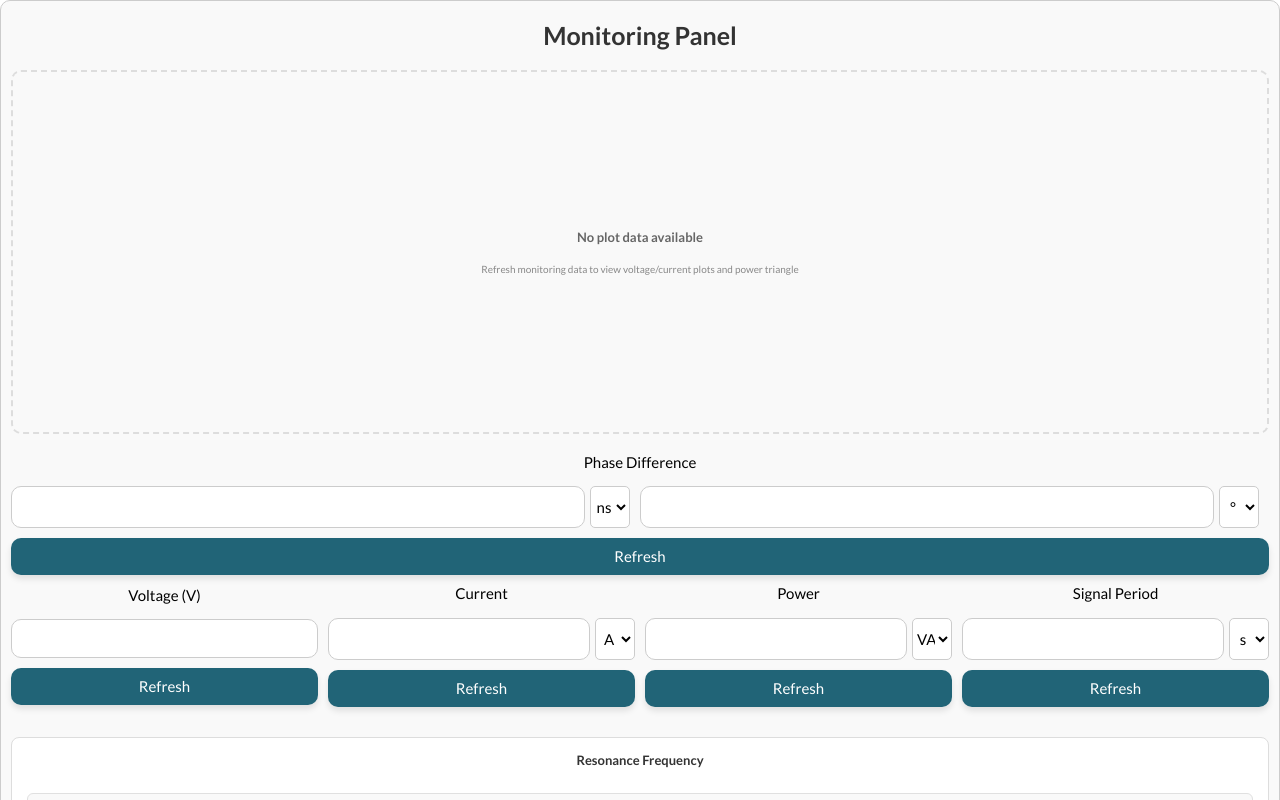
Test case: MonitoringPanel › fetches individual metrics when refresh buttons are clicked
Click the button "Refresh" below "Phase Difference" at (640, 557), box [11, 538, 1269, 575]
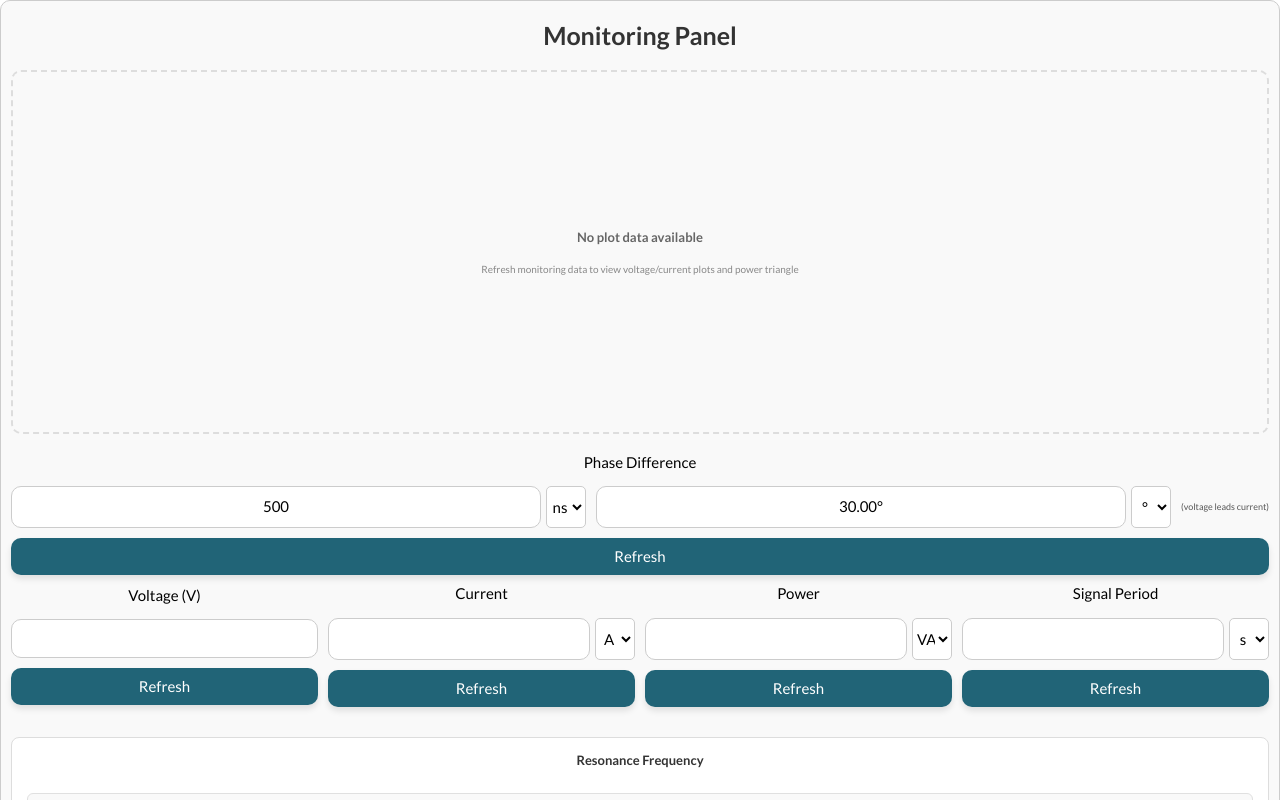
Expected: the 1st field showing "500" is shown, [11, 486, 541, 528]
Expected: the 2nd field showing "30.00°" is shown, [596, 486, 1126, 528]
Click the button "Refresh" below "Voltage (V)" at (164, 687), box [11, 668, 318, 705]
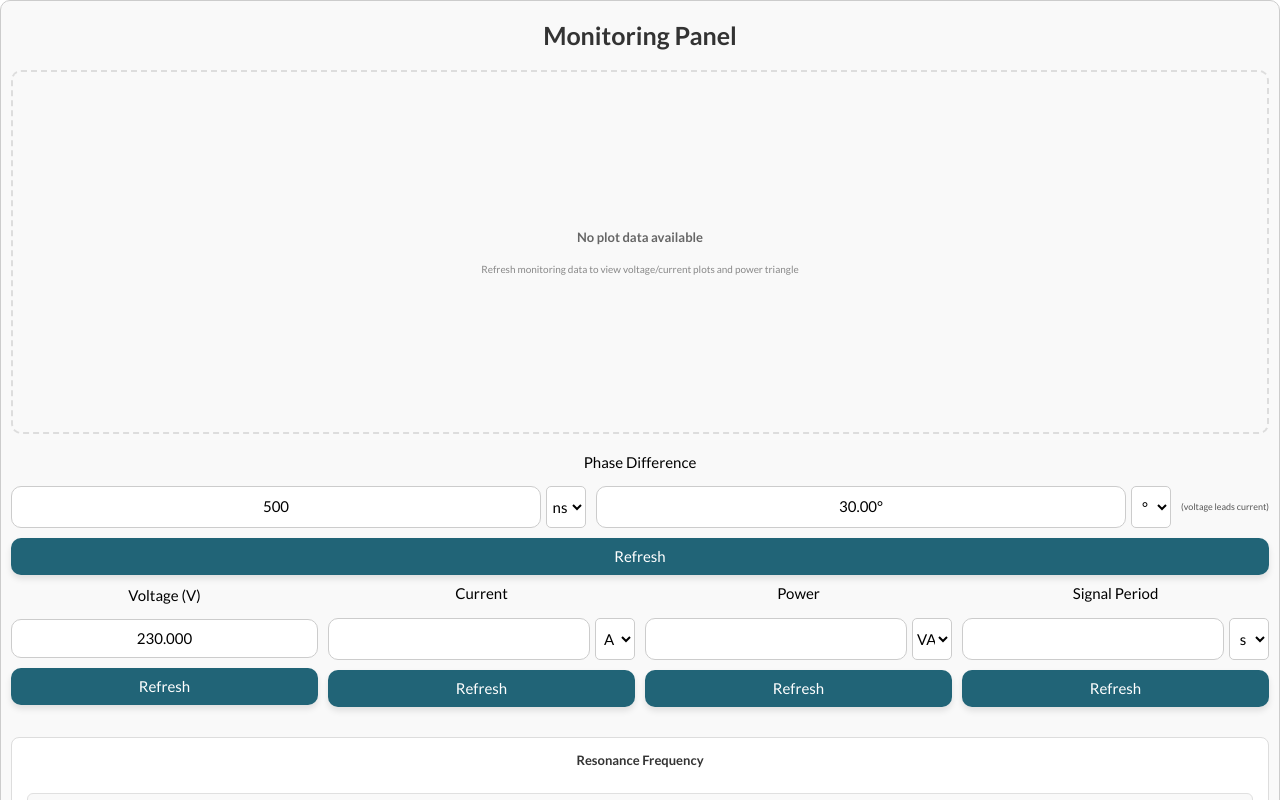
Expected: the field showing "230.000" below "Voltage (V)" is shown, [11, 619, 318, 658]
